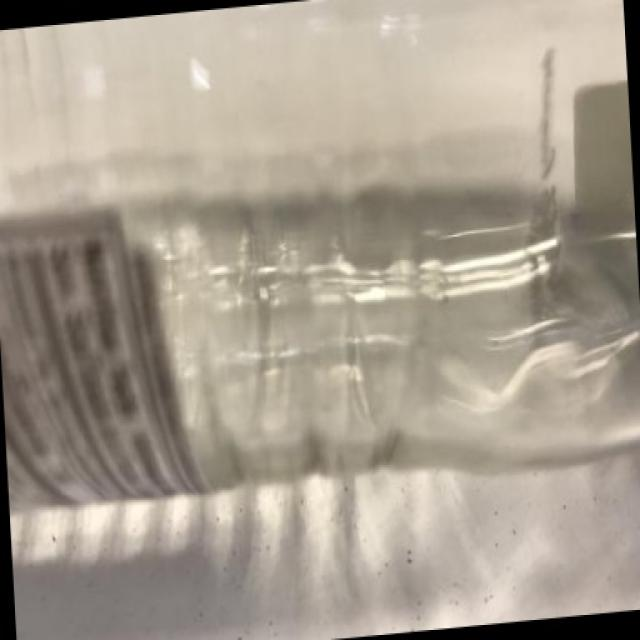vidrio: (12, 24, 640, 615)
